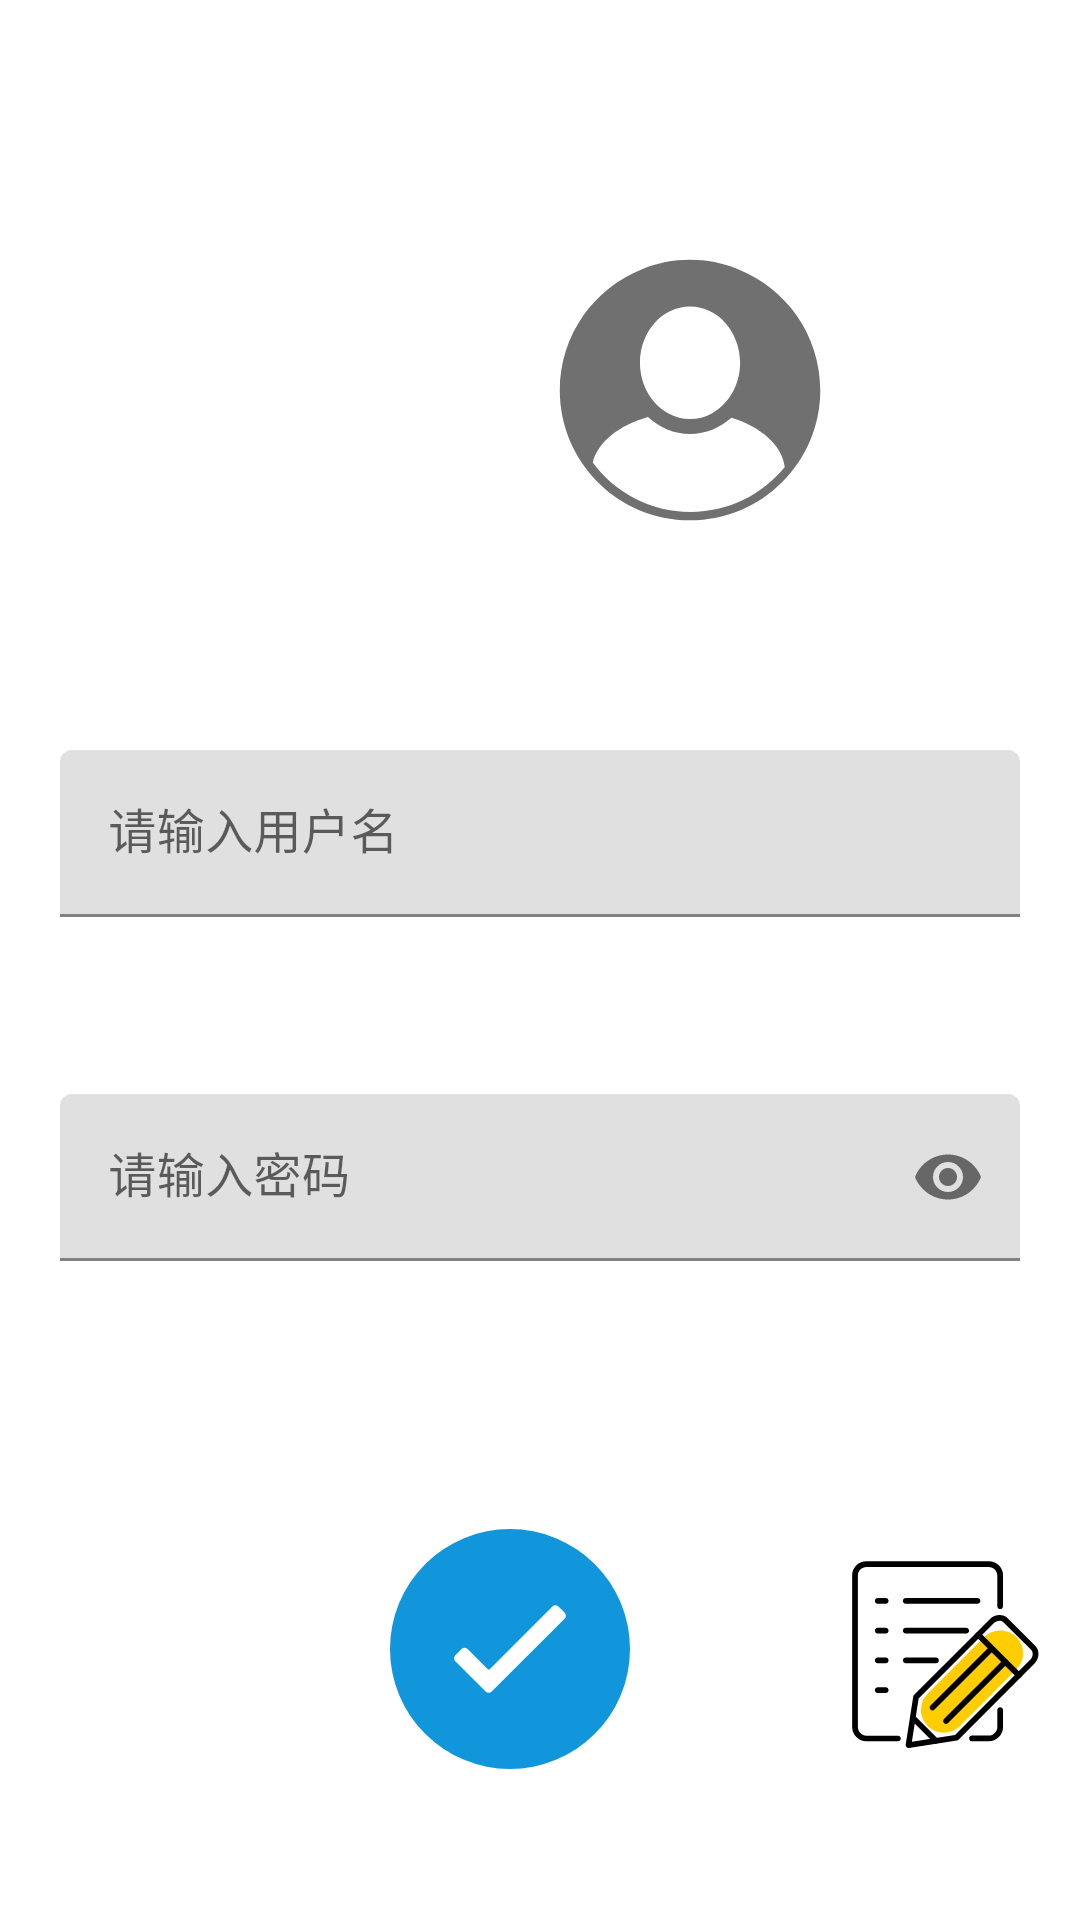

Point at icon controls on the screen. Image size 1080 x 1920, points as [x,y].
confirm: [510,1649]
head: [690,390]
to register: [945,1654]
